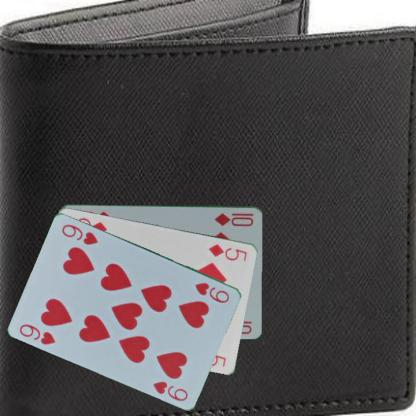10d: (212, 209, 255, 228)
5d: (206, 241, 249, 262)
9h: (17, 321, 57, 346), (193, 280, 231, 304)
